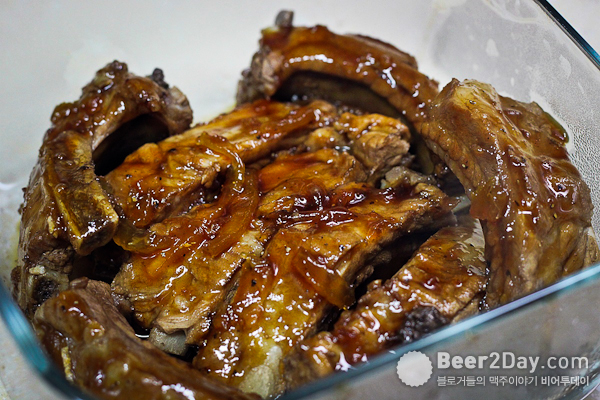갈비구이: (19, 20, 588, 385)
